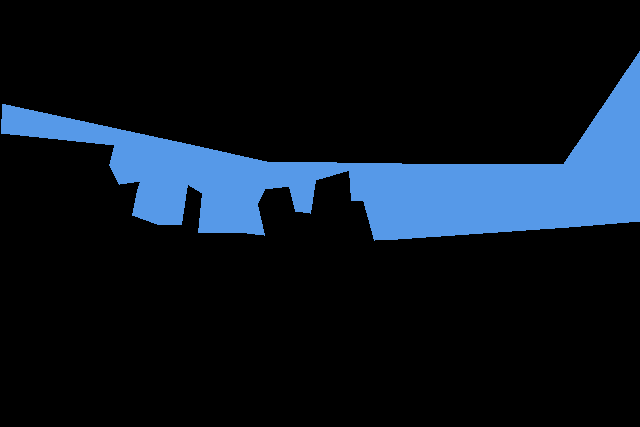Airplane: (1, 50, 640, 240)
